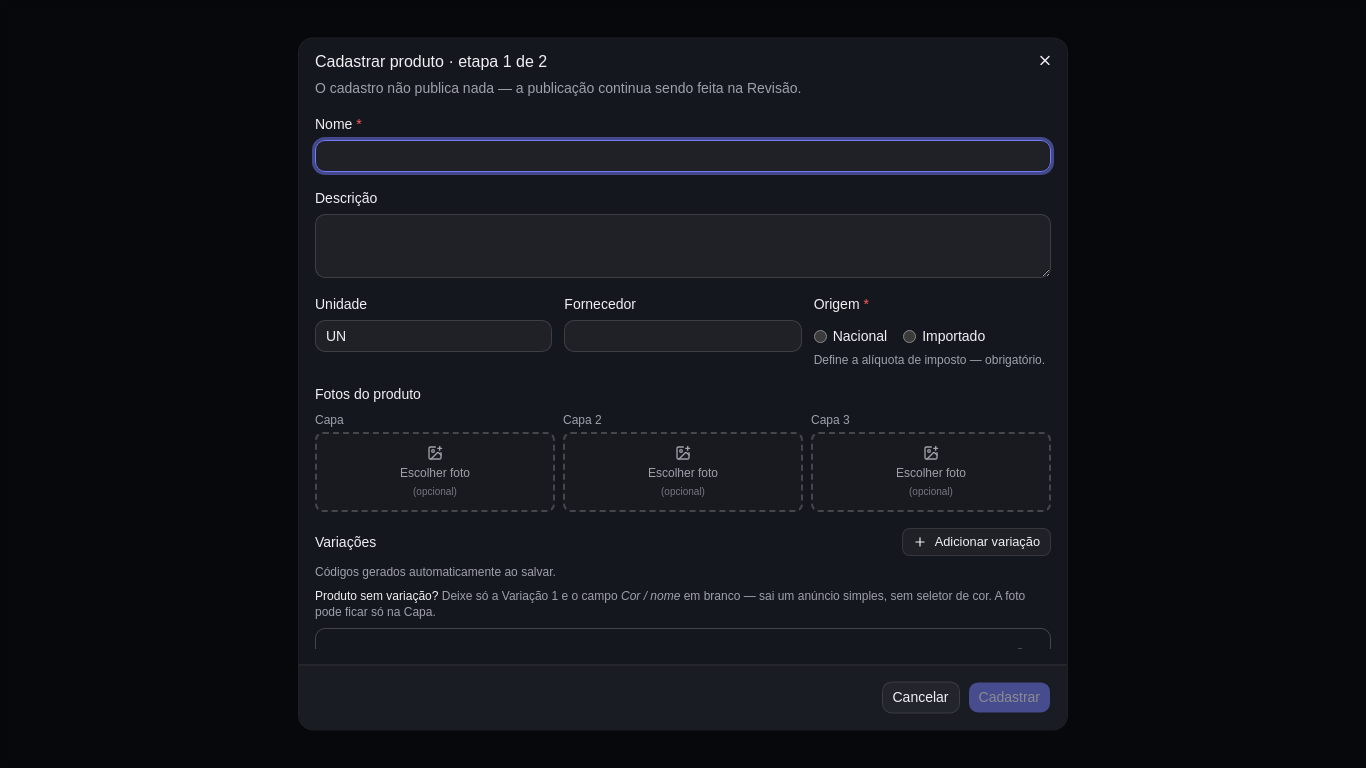
Test: DialogCadastroProduto — formulário em cards › preço vazio: sem mensagem no formulário virgem; aparece só depois do blur
Type "Produto Teste" into the field labelled "Nome". click: (683, 156)
box: [315,140,1051,172]
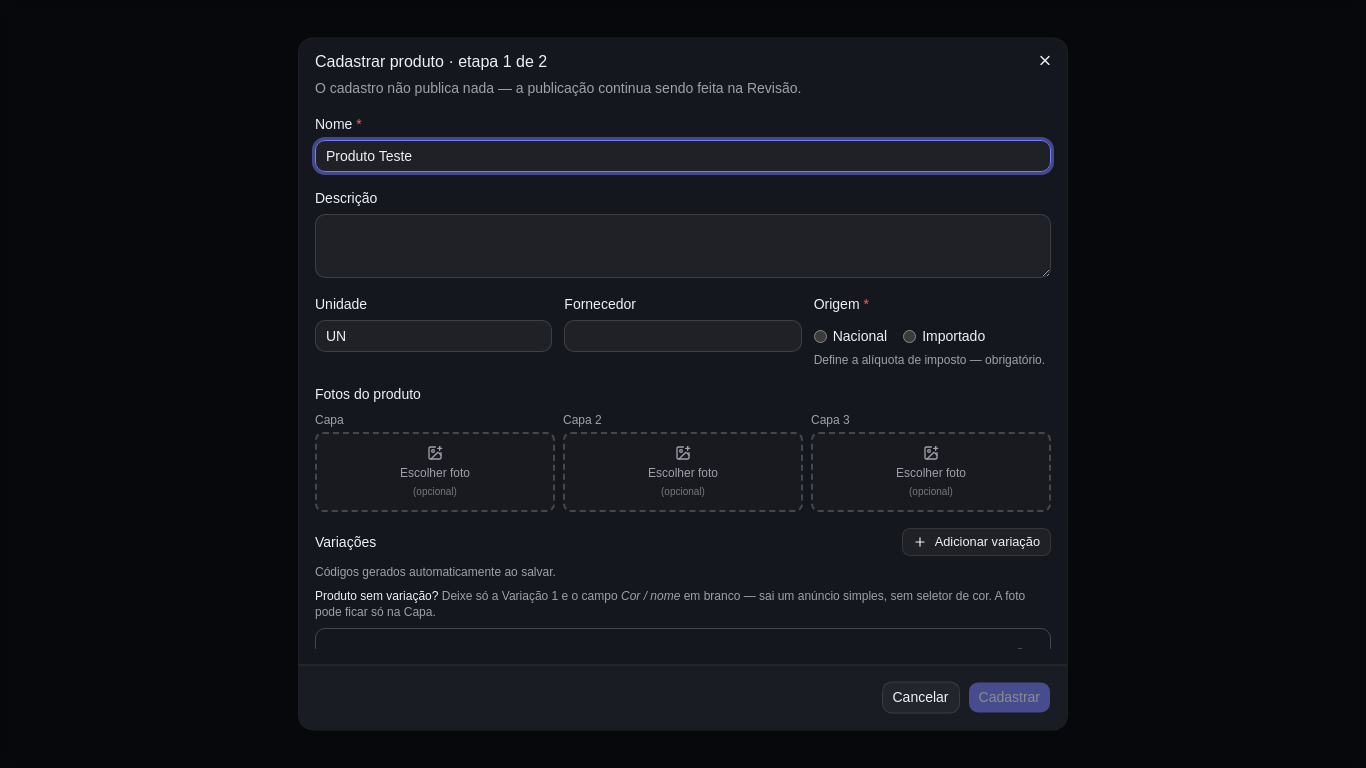
Click the radio button labelled "Nacional". click: (820, 336)
box: [814,330,827,343]
(page scrolled)
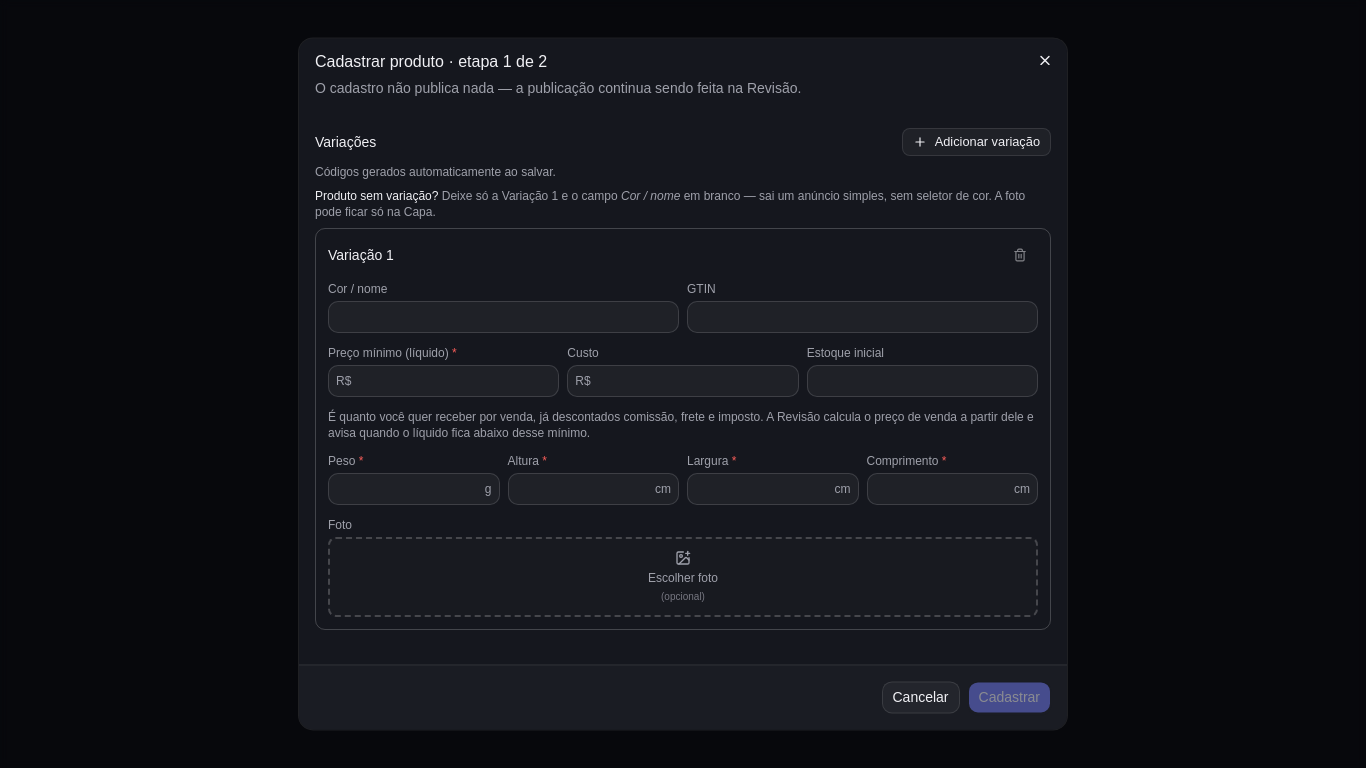
Expected: the text "Preço mínimo (líquido) é obrigatório e deve ser maior que zero." is not shown
Expected: the button "Cadastrar" is disabled, [968,682,1051,714]
Click the field named "Preço mínimo (líquido) da variação 1". click: (444, 381)
box: [328,365,559,397]
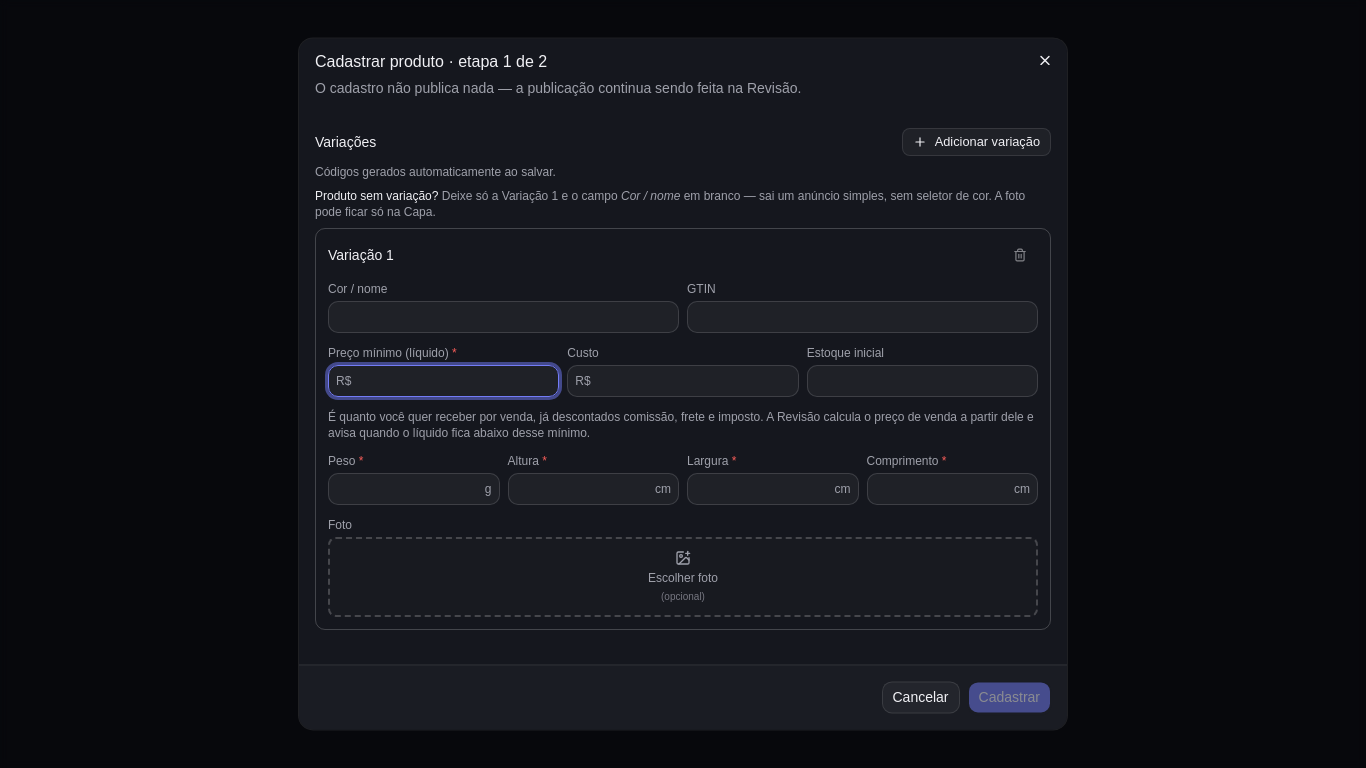
Press Tab
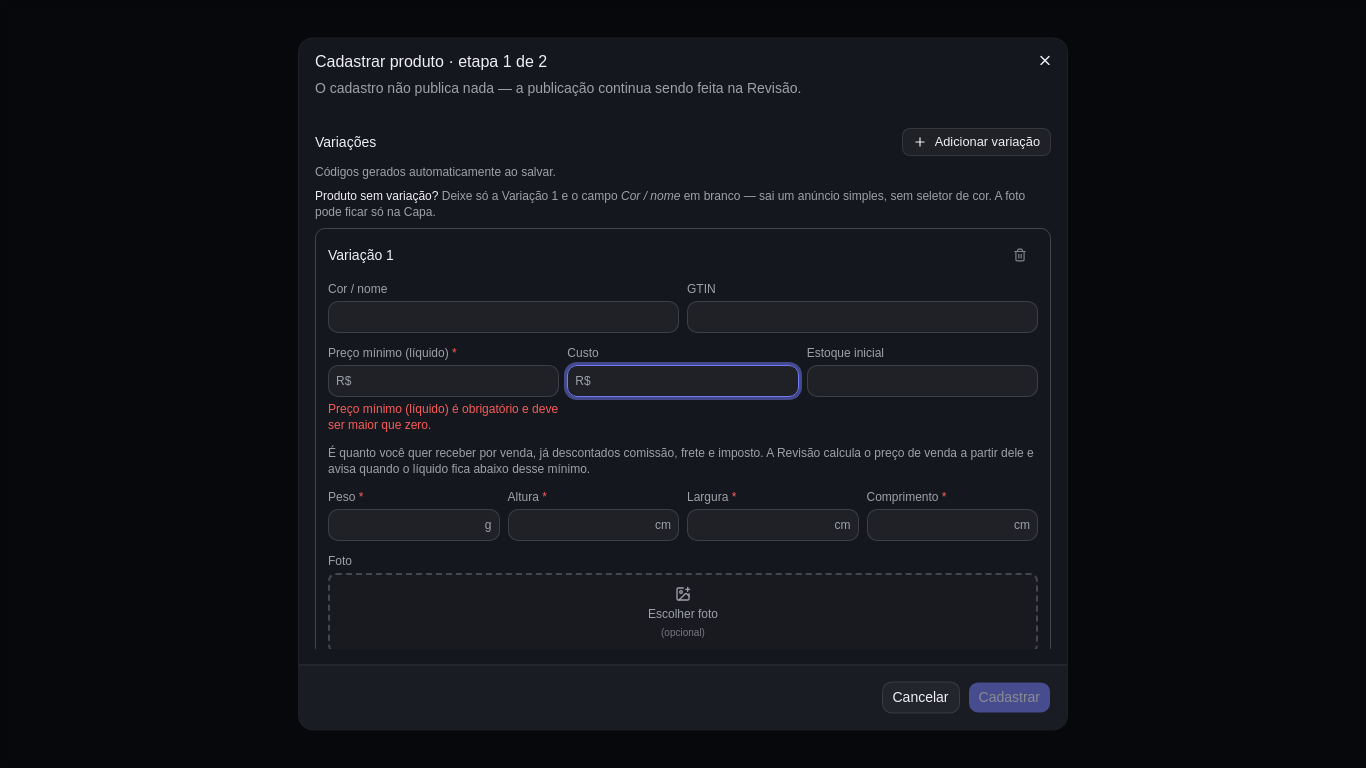
Expected: the button "Cadastrar" is disabled, [968,682,1051,714]
Now the text "Preço mínimo (líquido) é obrigatório e deve ser maior que zero." is shown, box [328,401,559,433]
